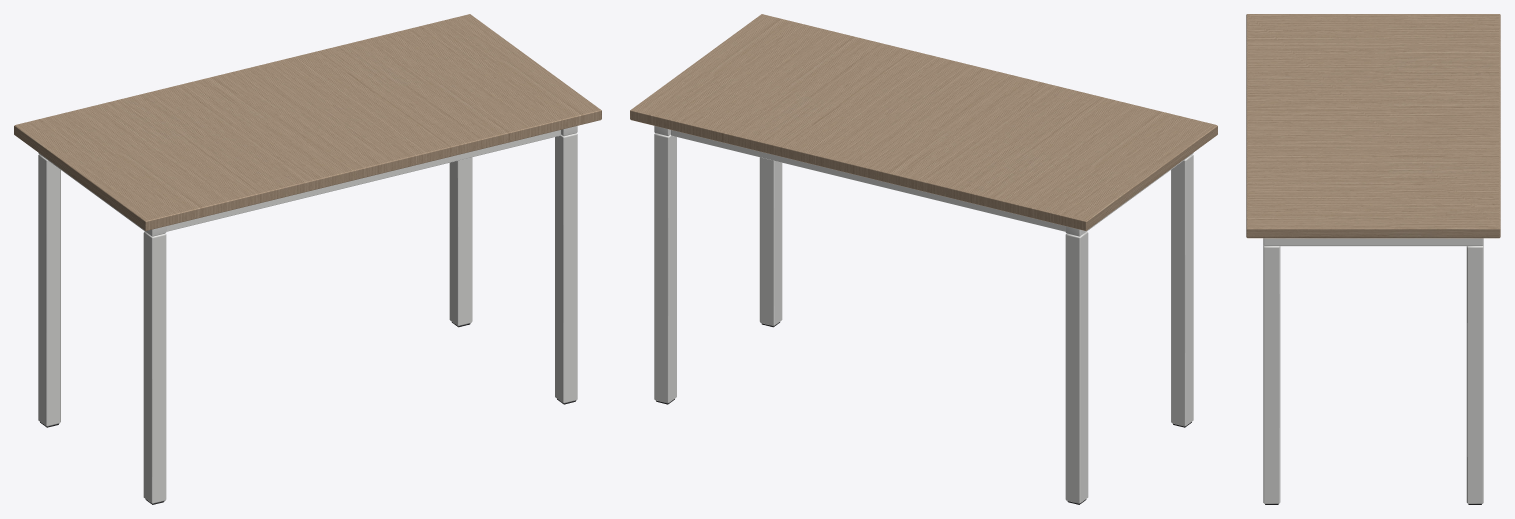
The model's file is desk_120.glb.
3 renders of one model, left to right at view 1: azimuth 30°, elevation 25°; view 2: azimuth 150°, elevation 25°; view 3: azimuth 270°, elevation 25°, orthographic. The views are drawn at different scales.
Visible parts, largest first — view 1: desk_hard; view 2: desk_hard; view 3: desk_hard.
Boxes of the visible parts, left/top/right/bottom form: desk_hard: left=14, top=14, right=601, bottom=504; desk_hard: left=630, top=14, right=1217, bottom=504; desk_hard: left=1246, top=14, right=1500, bottom=504.
Bounding box in the file's own units: 1.2 × 0.74 × 0.6001.
3 materials, 1 textured.
